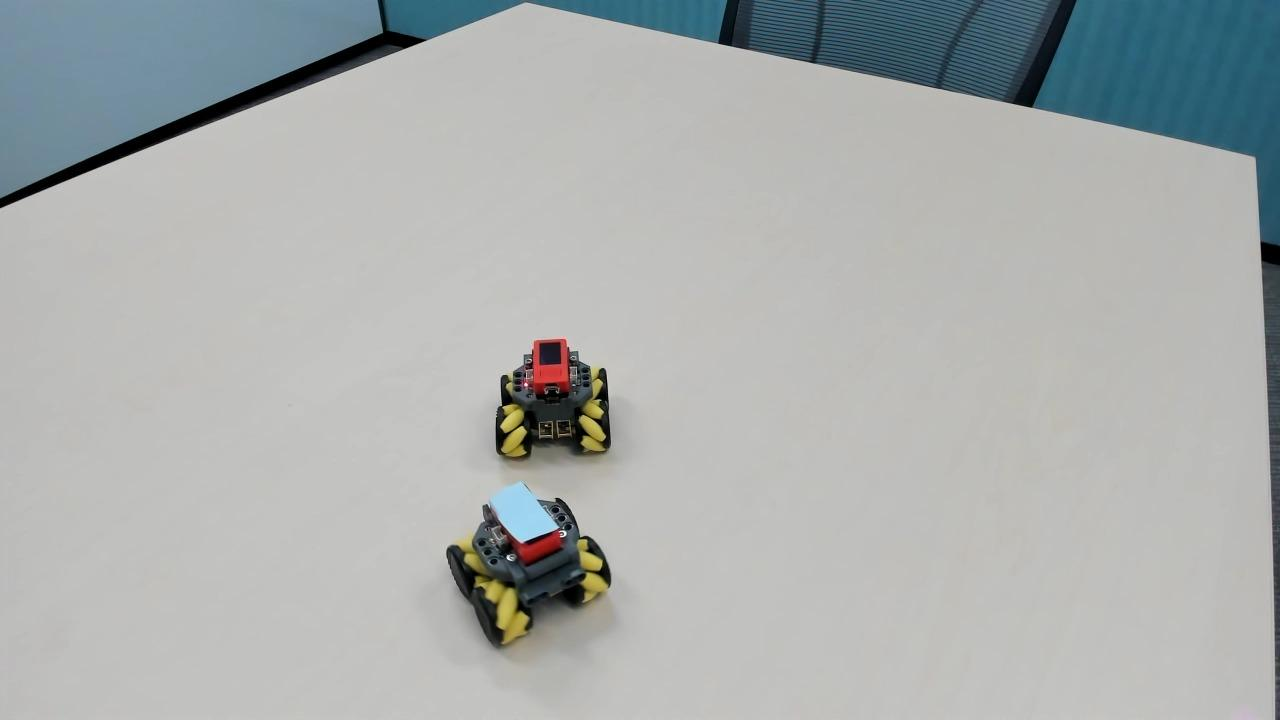B-Robot: (434, 473, 623, 649)
R-Robot: (481, 325, 621, 466)
